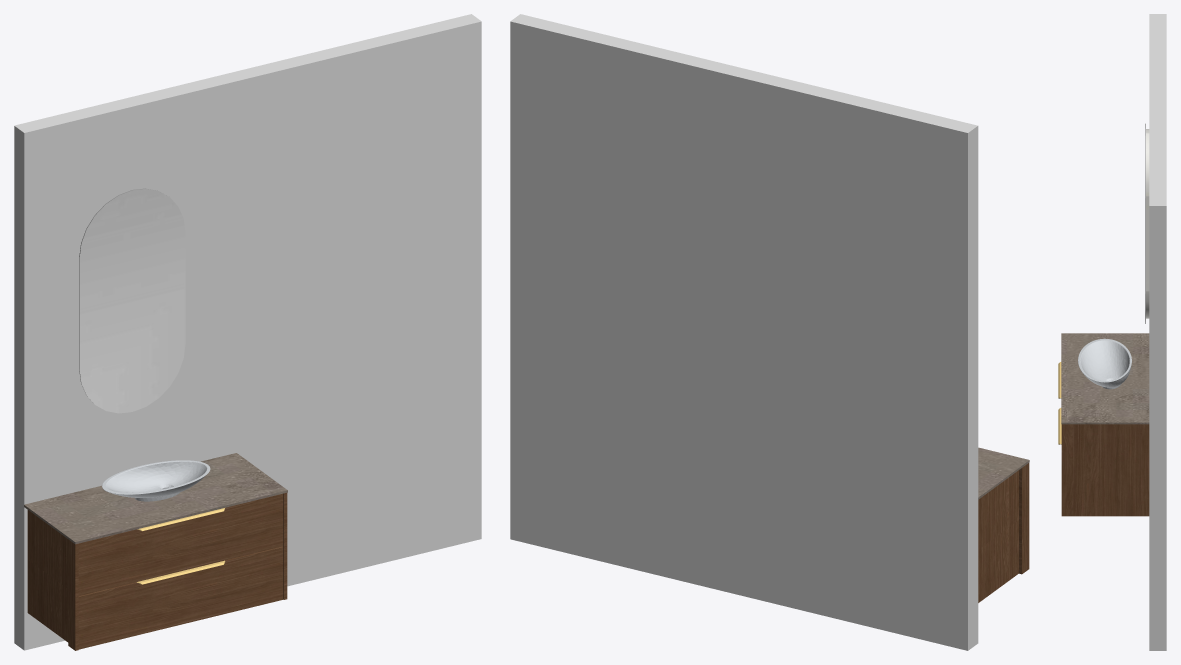
The model's file is VENDEG_WC.glb.
The picture shows the model from 3 angles, left to right: view 1: azimuth 30°, elevation 25°; view 2: azimuth 150°, elevation 25°; view 3: azimuth 270°, elevation 25°; orthographic projection. The views are drawn at different scales.
Parts seen in each view (by area): view 1: 3DGeom-1, 3DGeom-36, 3DGeom-16, 3DGeom-18, 3DGeom-31, 3DGeom-3, 3DGeom-2, 3DGeom-35; view 2: 3DGeom-1, 3DGeom-3, 3DGeom-31, 3DGeom-35; view 3: 3DGeom-1, 3DGeom-33, 3DGeom-31, 3DGeom-2, 3DGeom-37, 3DGeom-36.
Boxes of the visible parts, left/top/right/bottom form: 3DGeom-1: left=14, top=14, right=481, bottom=650; 3DGeom-36: left=79, top=188, right=185, bottom=413; 3DGeom-16: left=78, top=547, right=283, bottom=649; 3DGeom-18: left=78, top=494, right=283, bottom=595; 3DGeom-31: left=24, top=453, right=287, bottom=544; 3DGeom-3: left=27, top=510, right=68, bottom=642; 3DGeom-2: left=102, top=460, right=210, bottom=501; 3DGeom-35: left=68, top=539, right=75, bottom=650; 3DGeom-1: left=510, top=14, right=978, bottom=650; 3DGeom-3: left=978, top=470, right=1018, bottom=602; 3DGeom-31: left=978, top=447, right=1029, bottom=499; 3DGeom-35: left=1022, top=463, right=1029, bottom=573; 3DGeom-1: left=1149, top=14, right=1166, bottom=650; 3DGeom-33: left=1061, top=424, right=1149, bottom=516; 3DGeom-31: left=1061, top=333, right=1149, bottom=424; 3DGeom-2: left=1078, top=338, right=1131, bottom=389; 3DGeom-37: left=1146, top=129, right=1149, bottom=318; 3DGeom-36: left=1145, top=123, right=1145, bottom=323.
Size of the model in its own units: 2.59 by 2.8 by 0.6187.
Materials: 7 (5 with a texture image).
